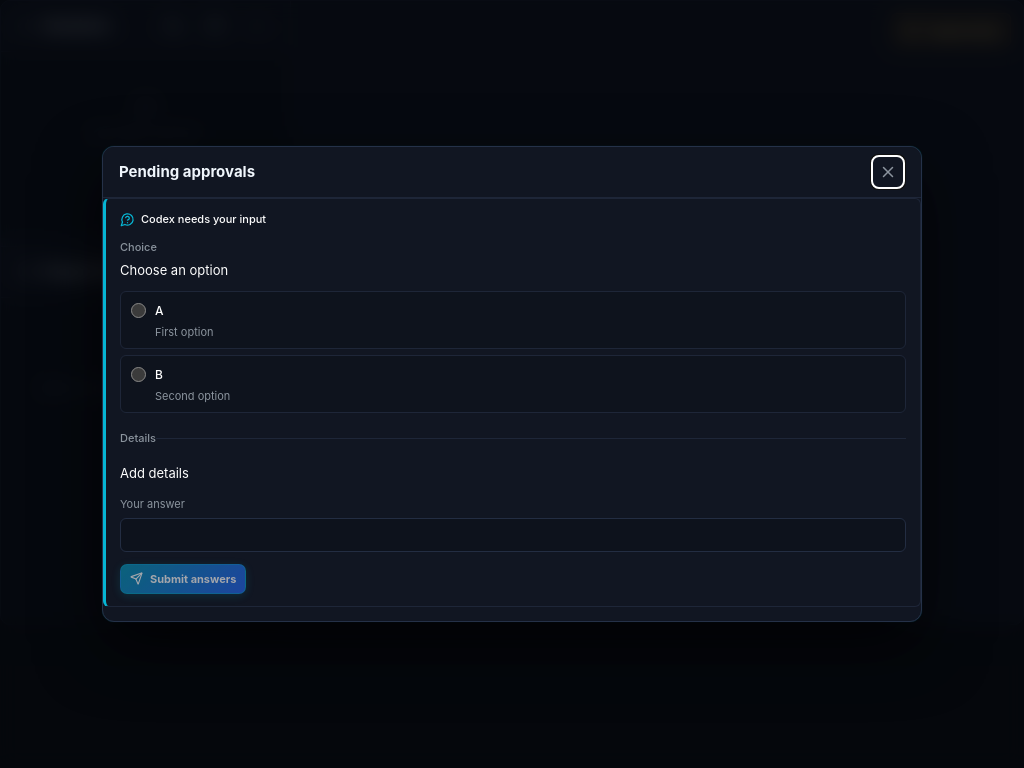
renders interactive questions and sends selected and typed answers through the page
Expected: the button "Submit answers" is disabled, [120,564,246,594]
Click the radio button labelled "B Second option" at (138, 375), box [131,367,146,382]
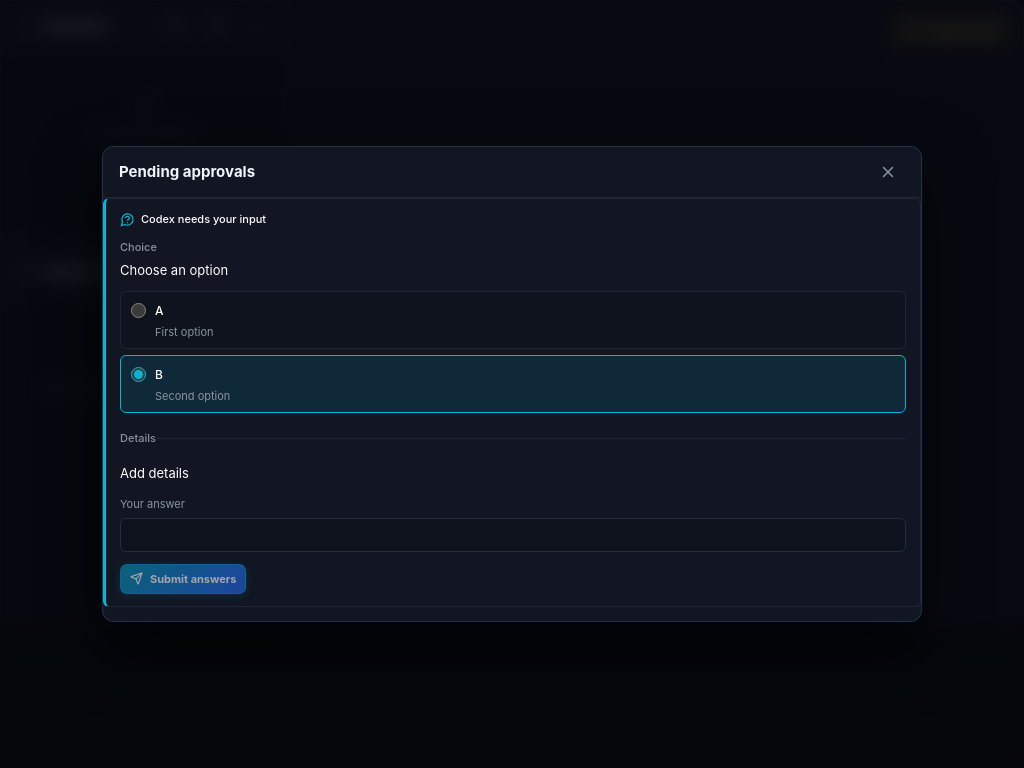
Type "My custom details" into the field labelled "Your answer" at (513, 535), box [120,518,906,552]
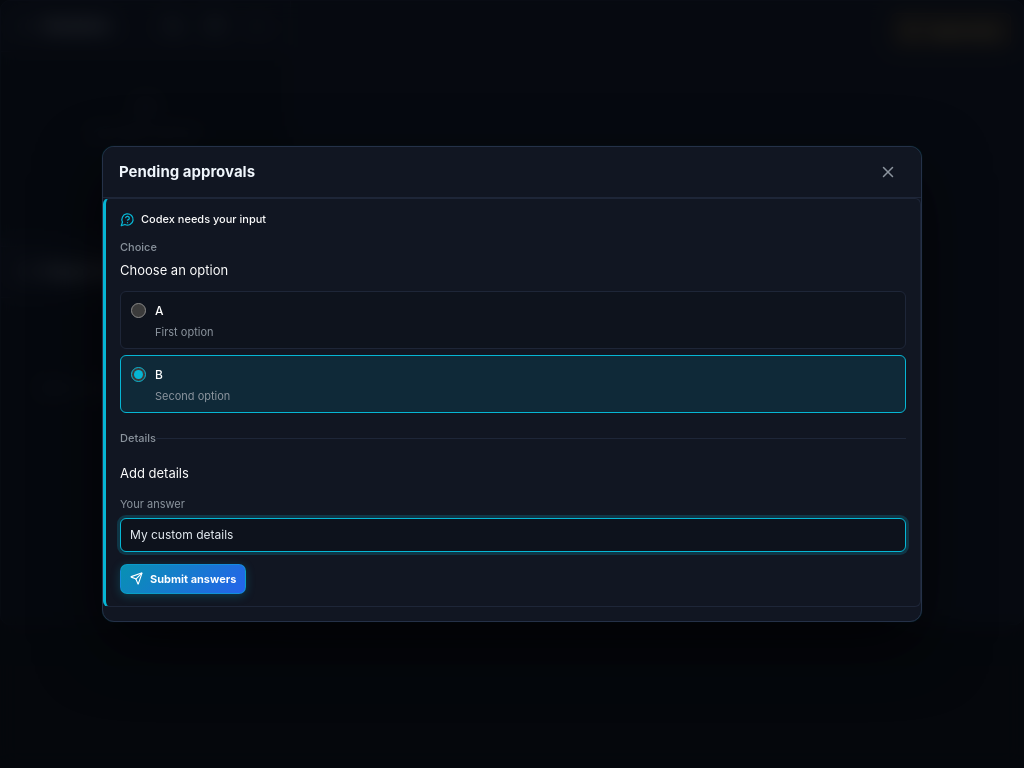
Click the button "Submit answers" at (183, 579), box [120,564,246,594]
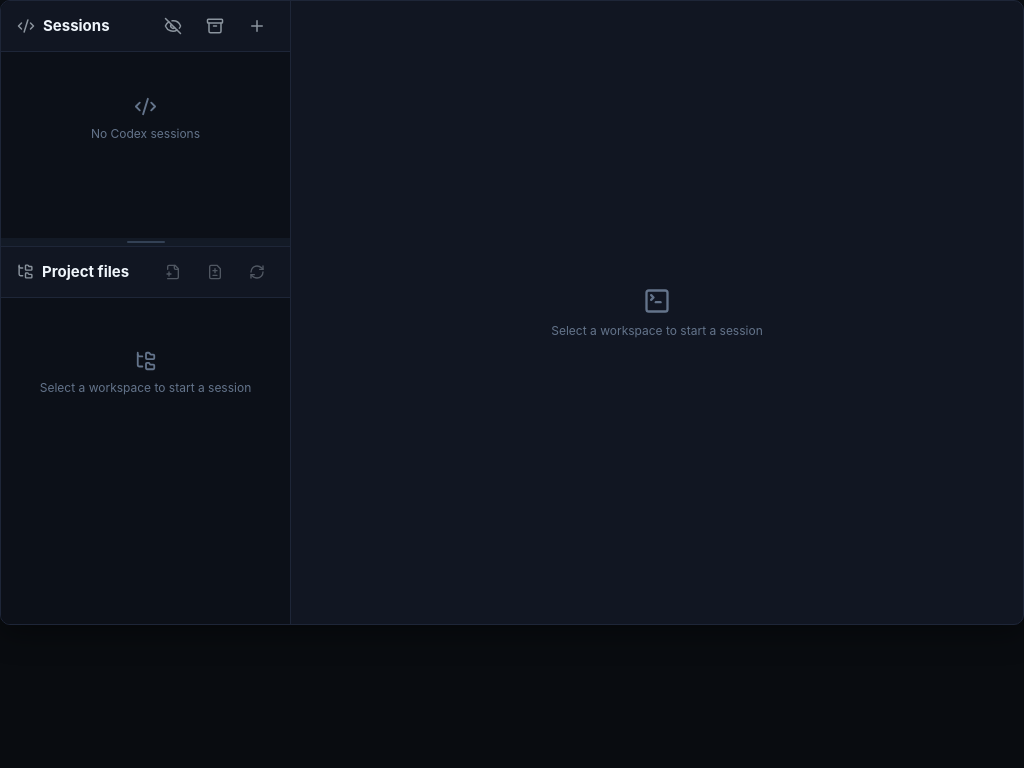
Result: the heading "Pending approvals" is gone
